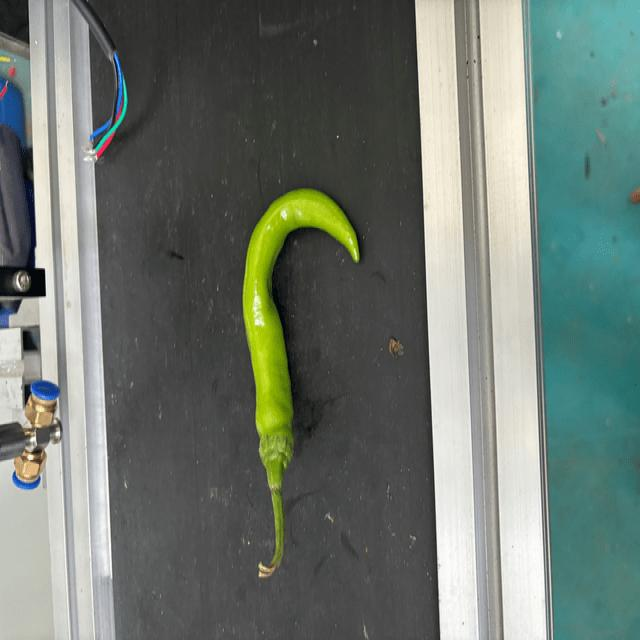chili: (242, 184, 362, 472)
